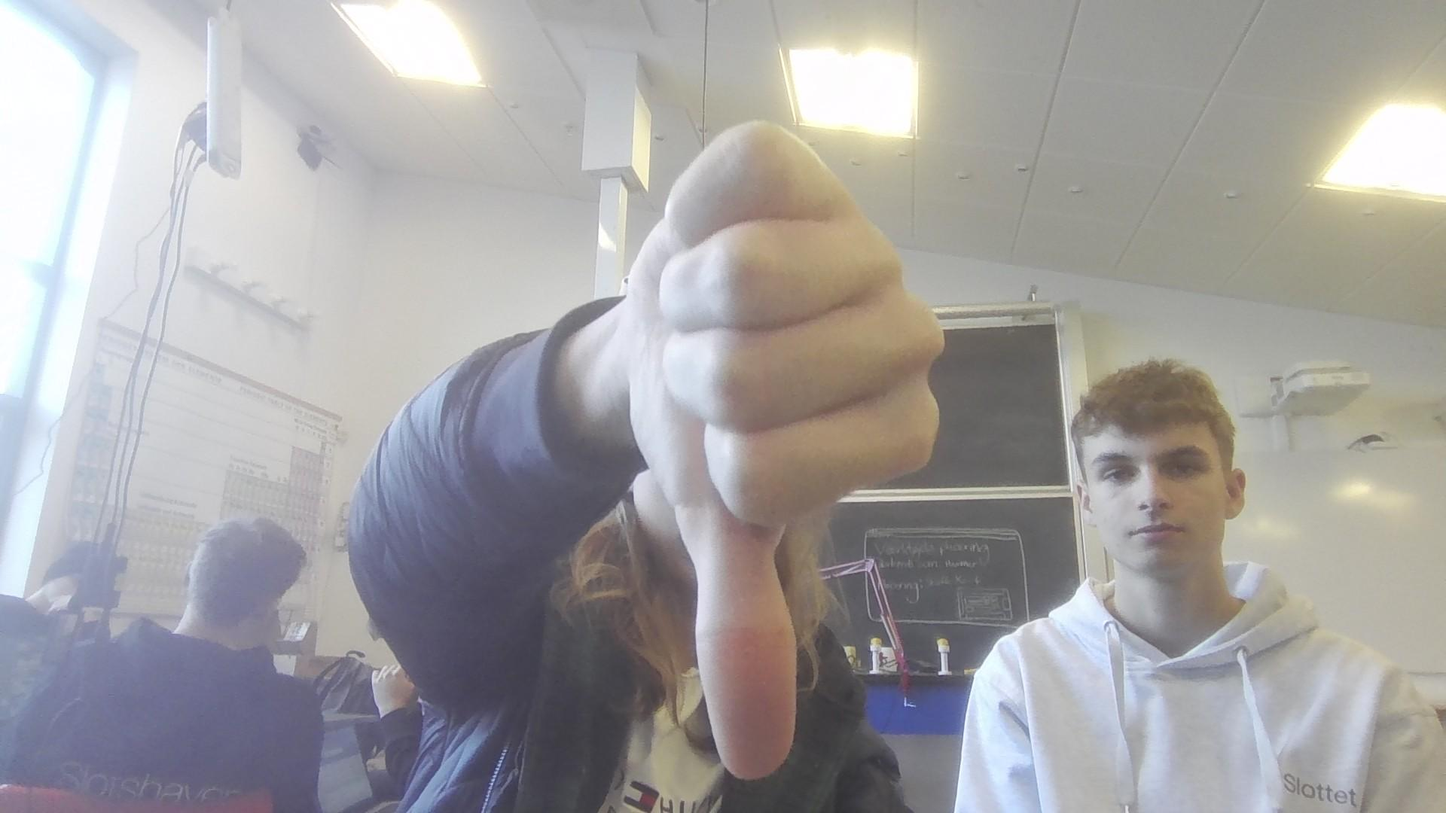thumbs down: (526, 114, 951, 810)
